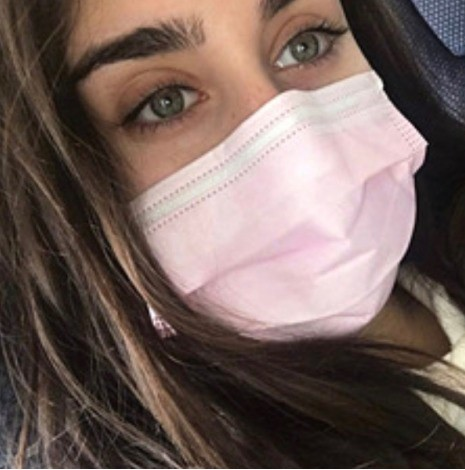face_with_mask: (11, 2, 442, 369)
